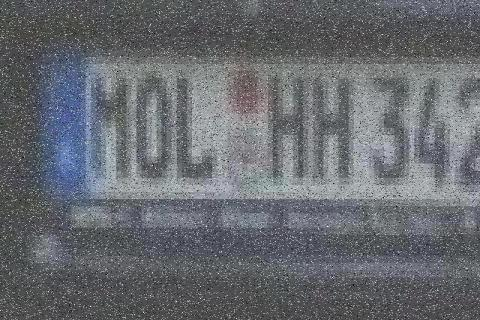LicensePlate: (33, 39, 480, 235)
